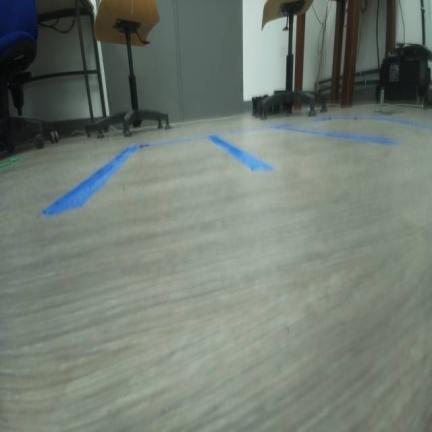place: (38, 132, 277, 215), (204, 122, 400, 173), (264, 114, 431, 147)
